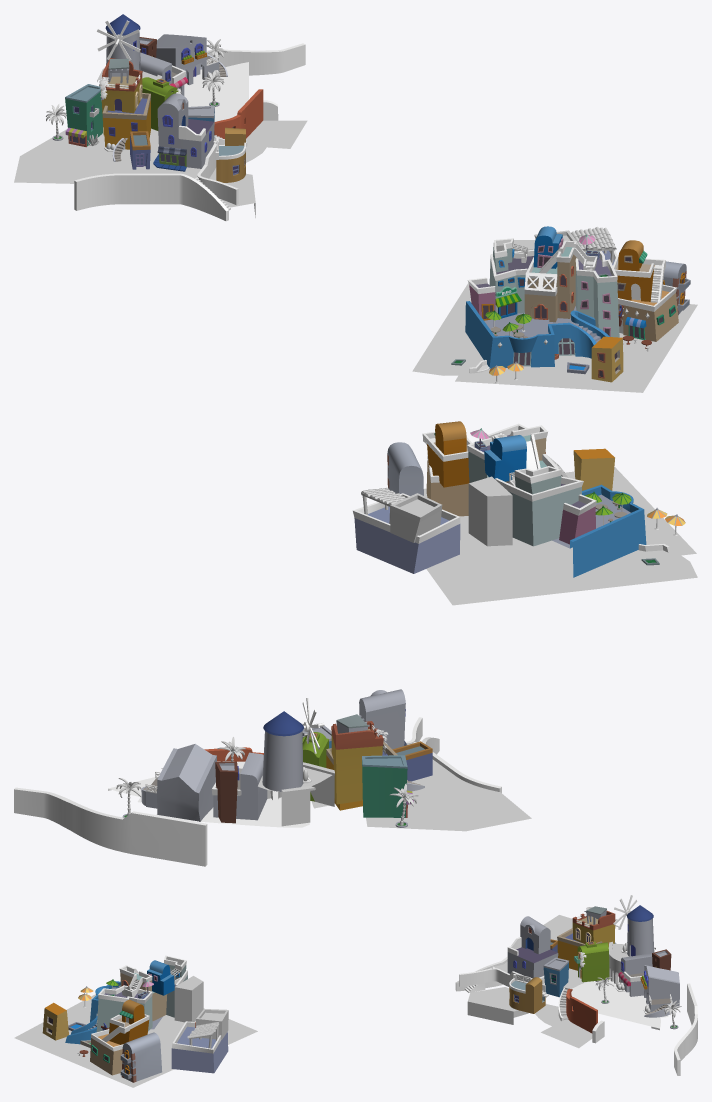
Rendered from loc_03.fbx.
The picture shows the model from 3 angles, top to bottom: view 1: azimuth 30°, elevation 25°; view 2: azimuth 150°, elevation 25°; view 3: azimuth 270°, elevation 25°; orthographic projection. The views are drawn at different scales.
Visible parts, largest first — view 1: Box230890, Box230891, Line2141, Cylinder5069, Object22289, Box230863, Box230888, Box230893, Box230892, Line2124, Box230864, Box005 (+17 smaller); view 2: Box230890, Line2124, Cylinder5069, Box230864, Box230891, Box230909, Box230900, Box003, Box005, Box230895, Cylinder4980, Box230863 (+19 smaller); view 3: Box230890, Box230888, Object22289, Box230863, Box230909, Box230931, Box230864, Box230900, Box001, Box003, Box230866, Line2124 (+20 smaller).
Boxes of the visible parts, x1,y1,x2,y2 form: Box230890: [412, 283, 697, 392]; Box230891: [465, 301, 609, 368]; Line2141: [74, 173, 228, 221]; Cylinder5069: [14, 128, 204, 183]; Object22289: [184, 62, 248, 121]; Box230863: [157, 93, 214, 168]; Box230888: [209, 120, 307, 217]; Box230893: [575, 258, 619, 337]; Box230892: [524, 247, 576, 322]; Line2124: [206, 43, 305, 75]; Box230864: [156, 34, 219, 85]; Box005: [65, 84, 102, 146]; Box230890: [424, 467, 697, 605]; Line2124: [14, 787, 207, 866]; Cylinder5069: [311, 744, 531, 831]; Box230864: [146, 744, 216, 821]; Box230891: [552, 484, 646, 577]; Box230909: [354, 506, 460, 573]; Box230900: [468, 476, 512, 546]; Box003: [331, 721, 383, 804]; Box005: [362, 755, 407, 817]; Box230895: [508, 482, 581, 546]; Cylinder4980: [262, 731, 303, 791]; Box230863: [336, 689, 405, 749]; Box230890: [14, 994, 257, 1087]; Box230888: [467, 987, 592, 1048]; Object22289: [571, 974, 680, 1030]; Box230863: [507, 916, 558, 978]; Box230909: [171, 1026, 228, 1073]; Box230931: [121, 1032, 162, 1082]; Box230864: [644, 964, 679, 1013]; Box230900: [174, 976, 203, 1022]; Box001: [577, 941, 609, 982]; Box003: [572, 910, 615, 946]; Box230866: [509, 977, 545, 1013]; Line2124: [674, 983, 697, 1075].
Size of the model in its own units: 5880 by 1849 by 10901.
